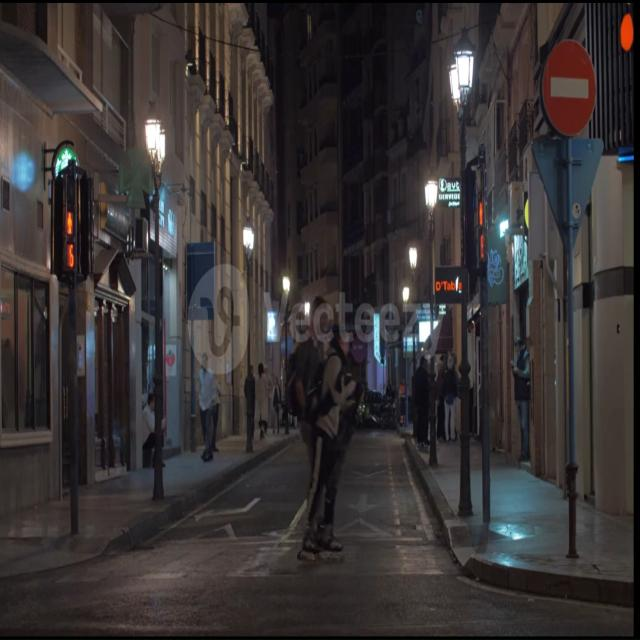pedestrian: (298, 333, 355, 556)
